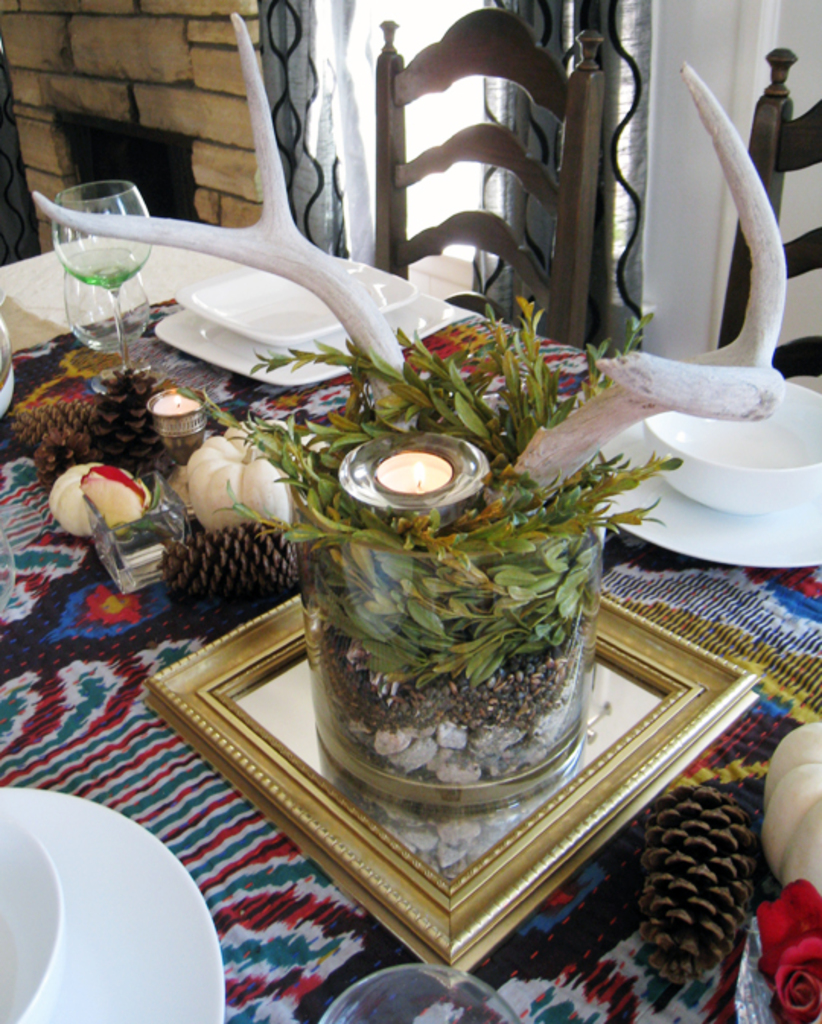plate: (0, 785, 228, 1022)
